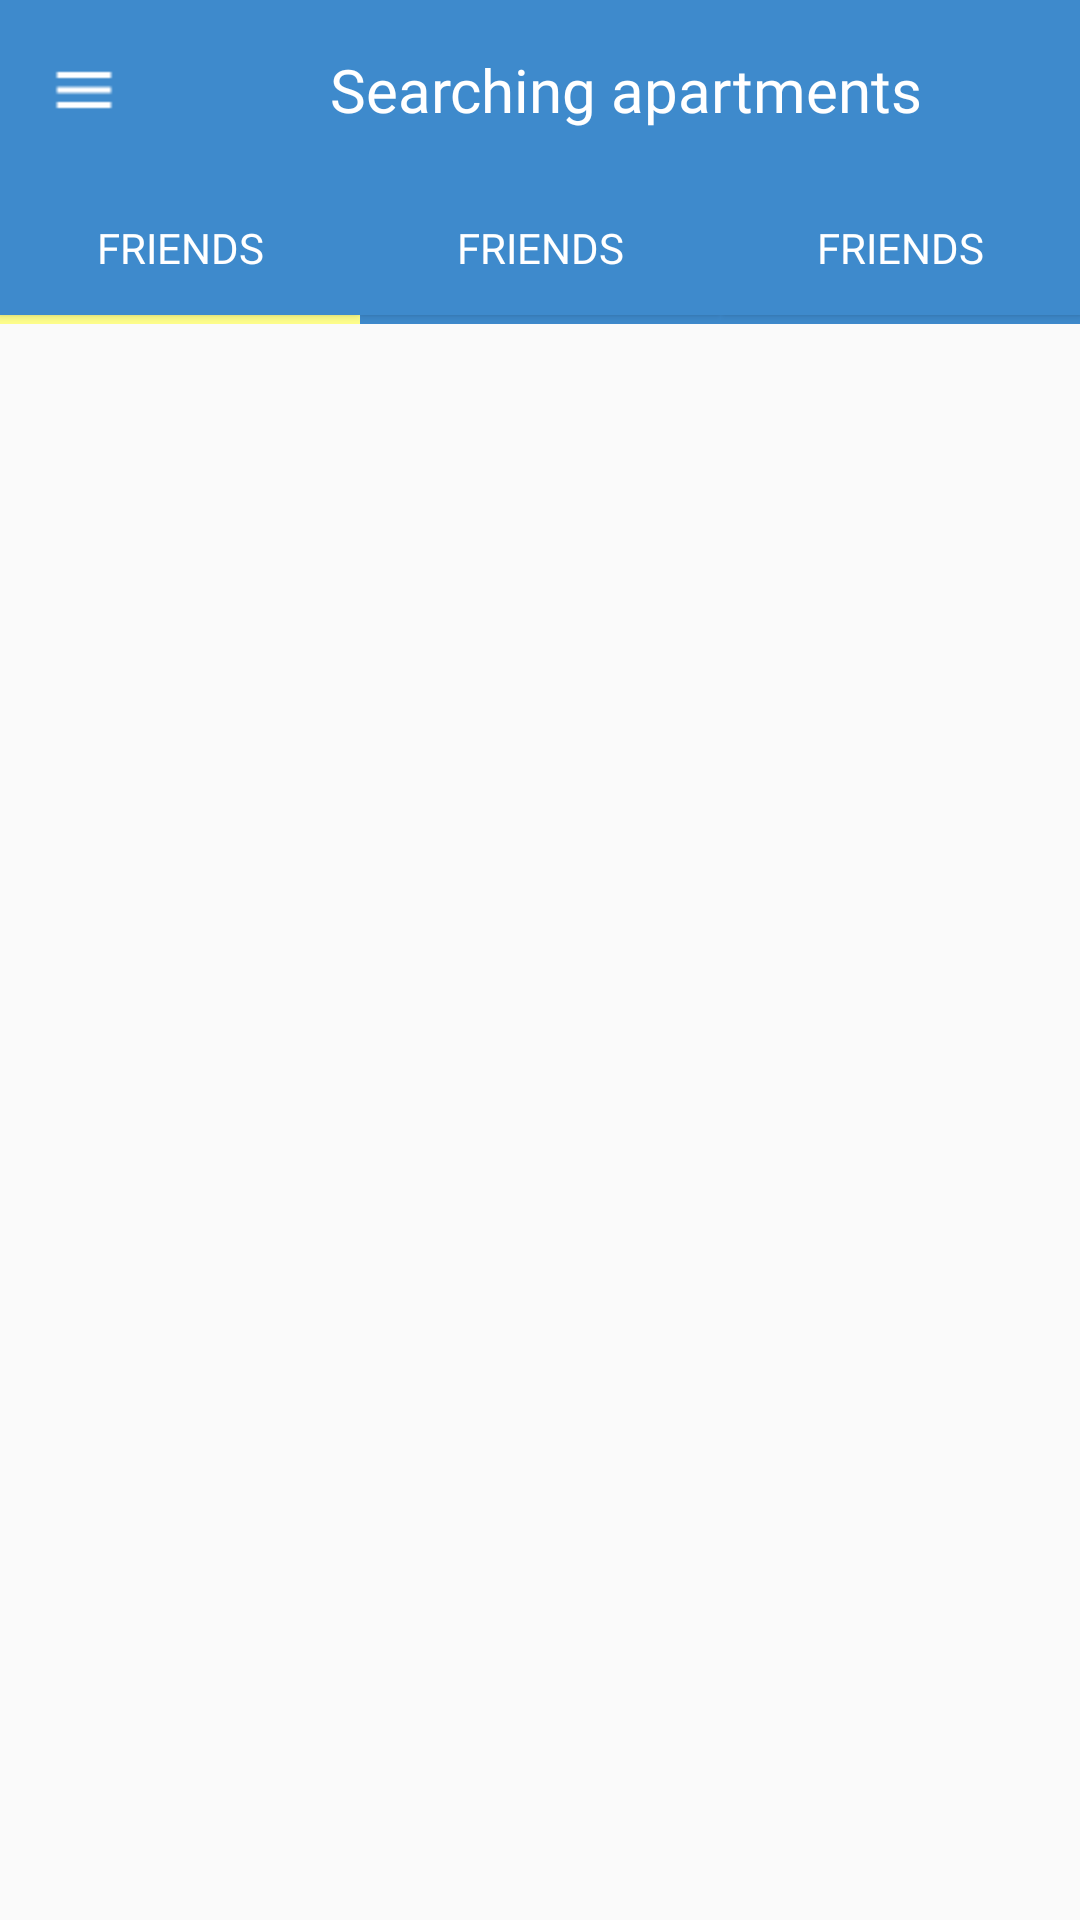

Where to tap for icons on this 1080x1920 app screen, as [x,y]:
menu: [84,90]
